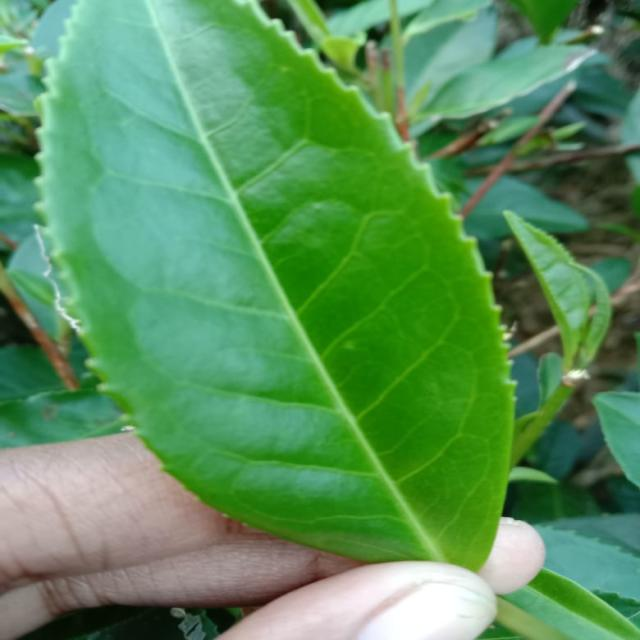Category C 4-7 days: (26, 0, 538, 572)
